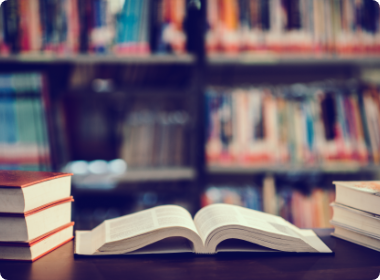Open Book: (79, 205, 333, 256)
